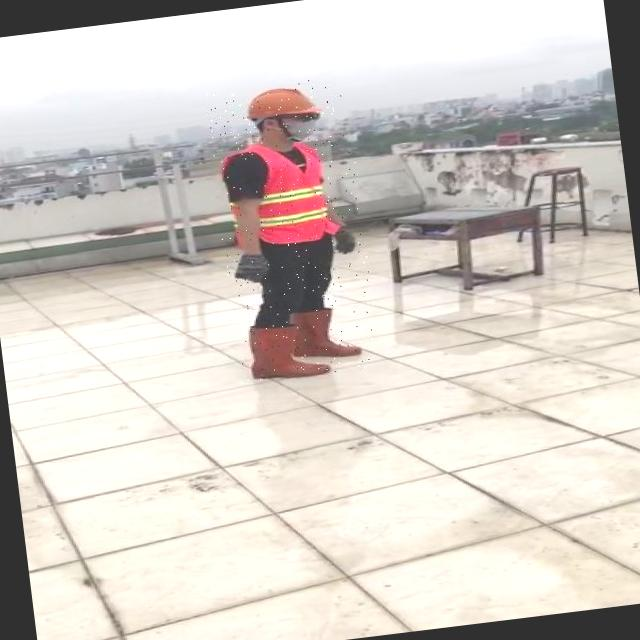boots: (242, 319, 328, 382), (286, 296, 360, 362)
helmet: (239, 81, 324, 121)
vest: (220, 136, 345, 246)
